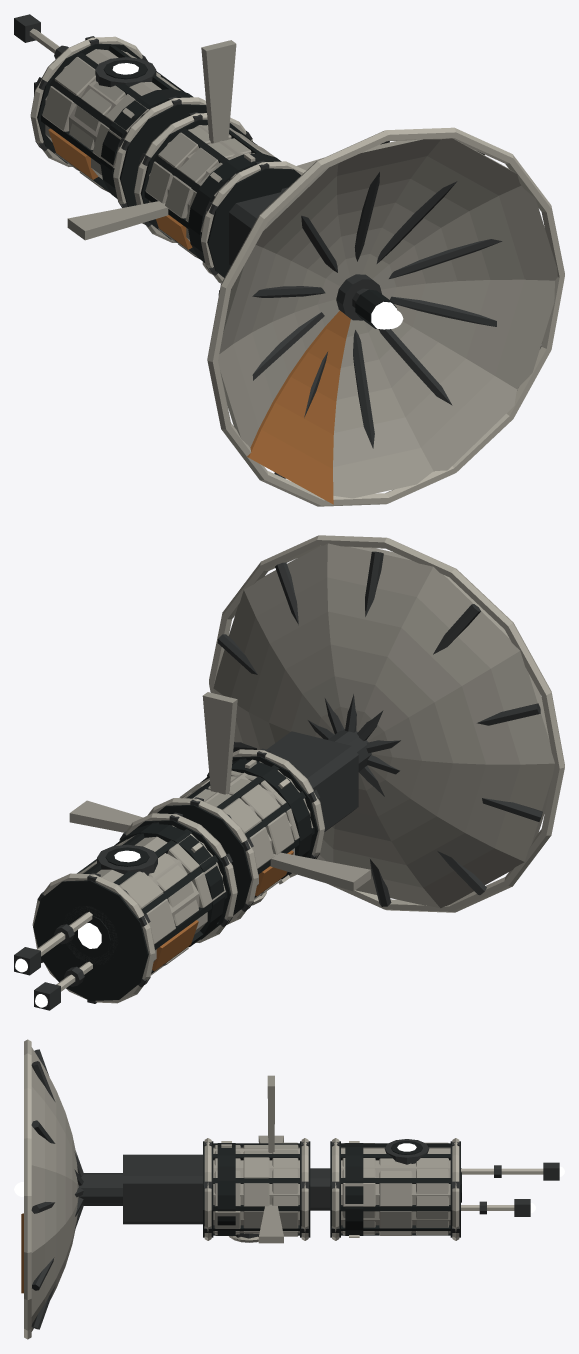
3 views of the same model, one above another, from view 1: azimuth 30°, elevation 25°; view 2: azimuth 150°, elevation 25°; view 3: azimuth 270°, elevation 25° (orthographic). The views are drawn at different scales.
Visible parts, largest first — view 1: RIMWARD_HULL; view 2: RIMWARD_HULL, RIMWARD_EMISSIVE; view 3: RIMWARD_HULL.
Part boxes in pixels (x1=…): RIMWARD_HULL: x1=14, y1=14, x2=564, y2=506; RIMWARD_HULL: x1=14, y1=535, x2=564, y2=1010; RIMWARD_EMISSIVE: x1=15, y1=850, x2=140, y2=1007; RIMWARD_HULL: x1=21, y1=1039, x2=559, y2=1339.
Size of the model in its own units: 4.04 by 4.04 by 7.41.
